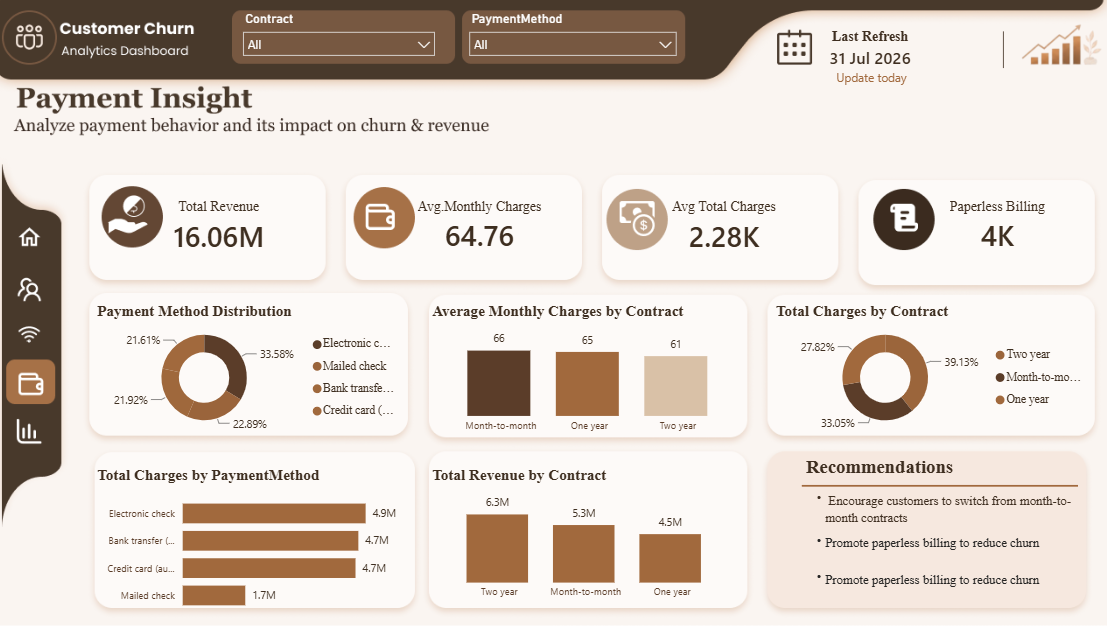

The dashboard page shown, as its layout file describes it:
{"tool":"powerbi","page":{"name":"Page 4","canvas":[1280,720],"ordinal":3},"visuals":[{"type":"cardVisual","fields":{"Data":["dax.Total Revenue"]},"box":[133.3,201.7,248.3,120],"z":0},{"type":"shape","box":[923.3,540,316.4,35],"z":0,"group":"g1"},{"type":"cardVisual","fields":{"Data":["dax.Average Monthly Charges"]},"box":[451.7,201.7,207.8,119.7],"z":1000},{"type":"cardVisual","fields":{"Data":["dax.Avg Total Charges"]},"box":[725,201.7,220,120],"z":2000},{"type":"cardVisual","fields":{"Data":["dax.Paperless Billing Customers"]},"box":[1035,201.7,222.2,119.7],"z":3000},{"type":"donutChart","title":"Payment Method Distribution","fields":{"Category":["DimPayment.PaymentMethod"],"Y":["dax.Total Customers"]},"box":[113.3,348.3,360,148.3],"z":4000},{"type":"clusteredColumnChart","title":"Total Revenue by Contract","fields":{"Category":["DimContract.Contract"],"Y":["dax.Total Charges"]},"box":[495,535,361.7,155],"z":5000},{"type":"cardVisual","fields":{"Data":["dax.Last Refresh"]},"box":[923.4,20.2,157.3,77.9],"z":6000},{"type":"textbox","box":[945,76.5,114,43.3],"z":7000},{"type":"slicer","fields":{"Values":["DimContract.Contract"]},"box":[274.1,10.1,239.5,66.4],"z":8000},{"type":"slicer","fields":{"Values":["DimPayment.PaymentMethod"]},"box":[532.4,10.1,256.8,66.4],"z":9000},{"type":"actionButton","box":[13,251,59.2,52],"z":10000},{"type":"actionButton","box":[13,308.8,59.2,52],"z":11000},{"type":"actionButton","box":[13,362.1,59.2,52],"z":12000},{"type":"actionButton","box":[13,414.1,59.2,52],"z":13000},{"type":"actionButton","box":[13,467.5,59.2,52],"z":14000},{"type":"clusteredBarChart","fields":{"Category":["DimPayment.PaymentMethod"],"Y":["dax.Total Charges"]},"box":[113.3,535,361.7,171.7],"z":15000},{"type":"columnChart","fields":{"Category":["DimContract.Contract"],"Y":["dax.Average Monthly Charges"]},"box":[495,348.3,370,151.7],"z":16000},{"type":"donutChart","fields":{"Category":["DimContract.Contract"],"Y":["dax.Total Charges"]},"box":[888.3,348.3,368.3,148.3],"z":17000},{"type":"textbox","box":[923.3,518.3,228.3,43.3],"z":18000},{"type":"group","id":"g1","title":"Group 1","box":[923.3,540,316.7,35],"z":19000},{"type":"textbox","box":[923.3,558.3,316.7,63.3],"z":20000},{"type":"textbox","box":[923.3,606.7,316.7,41.7],"z":21000},{"type":"textbox","box":[923.3,648.3,316.7,41.7],"z":22000}]}

Visuals, with their boxes in screenshot pixels (x1, y1, x2, y2), scaled from the page's 1280x720 canvas onto the 1107x628 screenshot:
cardVisual - dax.Total Revenue: (left=115, top=176, right=330, bottom=281)
shape: (left=799, top=471, right=1072, bottom=502)
cardVisual - dax.Average Monthly Charges: (left=391, top=176, right=570, bottom=280)
cardVisual - dax.Avg Total Charges: (left=627, top=176, right=817, bottom=281)
cardVisual - dax.Paperless Billing Customers: (left=895, top=176, right=1087, bottom=280)
"Payment Method Distribution" donutChart: (left=98, top=304, right=409, bottom=433)
"Total Revenue by Contract" clusteredColumnChart: (left=428, top=467, right=741, bottom=602)
cardVisual - dax.Last Refresh: (left=799, top=18, right=935, bottom=86)
textbox: (left=817, top=67, right=916, bottom=104)
slicer - DimContract.Contract: (left=237, top=9, right=444, bottom=67)
slicer - DimPayment.PaymentMethod: (left=460, top=9, right=683, bottom=67)
actionButton: (left=11, top=219, right=62, bottom=264)
actionButton: (left=11, top=269, right=62, bottom=315)
actionButton: (left=11, top=316, right=62, bottom=361)
actionButton: (left=11, top=361, right=62, bottom=407)
actionButton: (left=11, top=408, right=62, bottom=453)
clusteredBarChart - DimPayment.PaymentMethod x dax.Total Charges: (left=98, top=467, right=411, bottom=616)
columnChart - DimContract.Contract x dax.Average Monthly Charges: (left=428, top=304, right=748, bottom=436)
donutChart - DimContract.Contract x dax.Total Charges: (left=768, top=304, right=1087, bottom=433)
textbox: (left=799, top=452, right=996, bottom=490)
"Group 1" group: (left=799, top=471, right=1072, bottom=502)
textbox: (left=799, top=487, right=1072, bottom=542)
textbox: (left=799, top=529, right=1072, bottom=566)
textbox: (left=799, top=565, right=1072, bottom=602)
